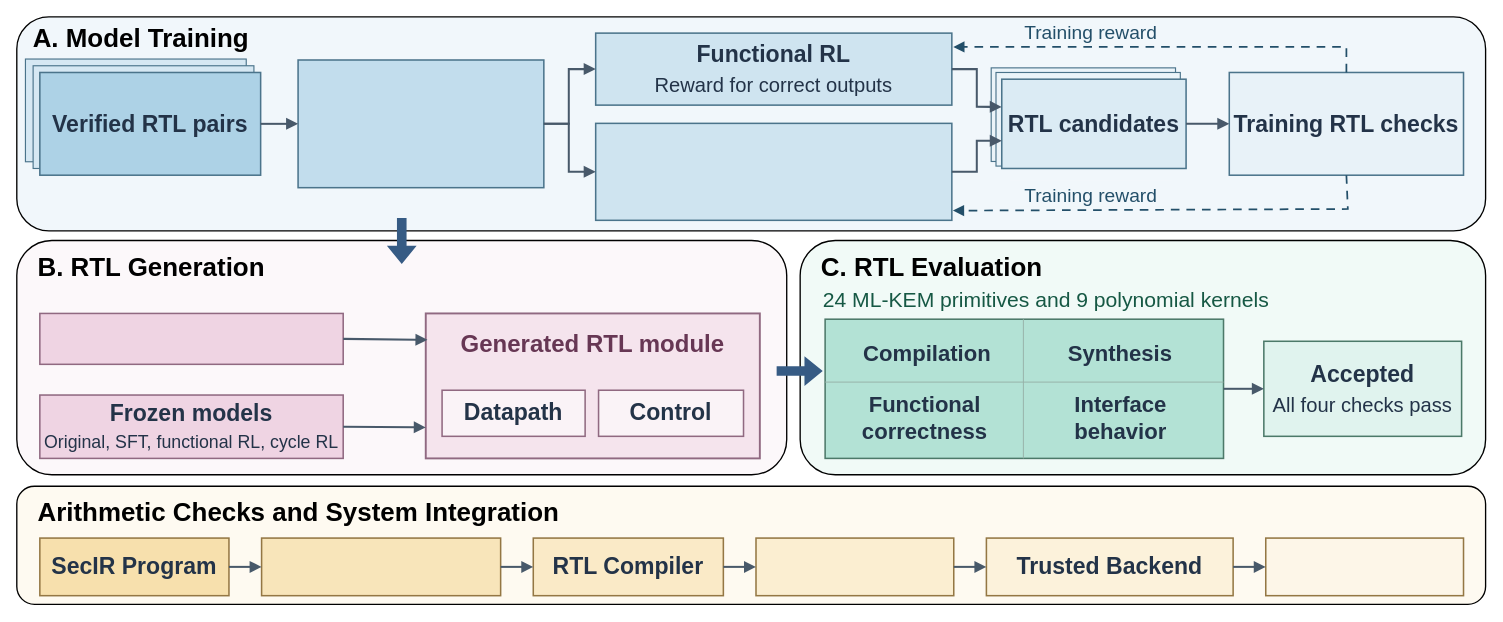
Some shapes in this 1503 by 622 pixel diagram are drawn without their labels. The centre of each missing label's shape, as x and y in pixels:
Accepted Kernel: (854,566)
Arithmetic Checks: (380,566)
Contract-and-cycle RL RTL gains reward for fewer cycles and lower resource use: (773,171)
ML-KEM task: (191,338)
Supervised RTL fine-tuning (SFT) CodeV-QC-7B Qwen2.5-72B-Instruct: (420,123)
Timing Measurement: (1364,566)
